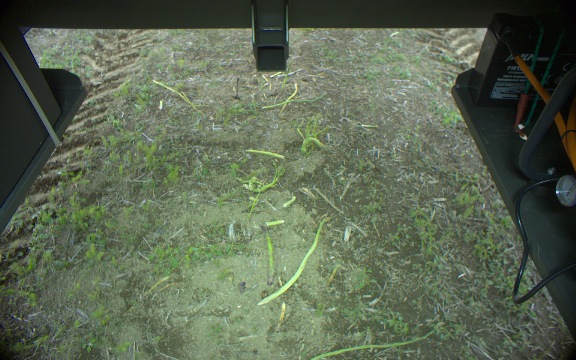aspa: (259, 216, 329, 304), (303, 324, 441, 360), (261, 221, 277, 285), (275, 59, 292, 100), (244, 147, 287, 162), (295, 137, 325, 154), (255, 219, 287, 233)
